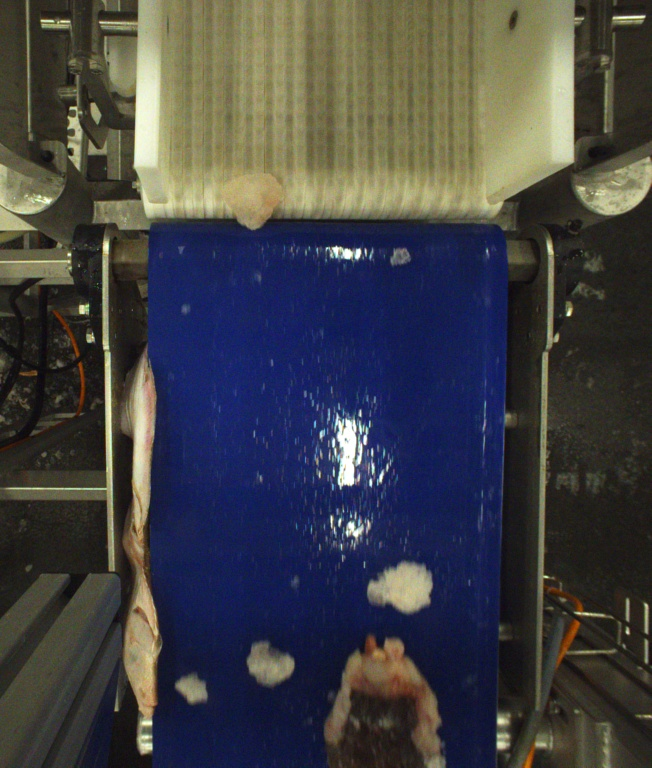ANF: (323, 634, 447, 768)
